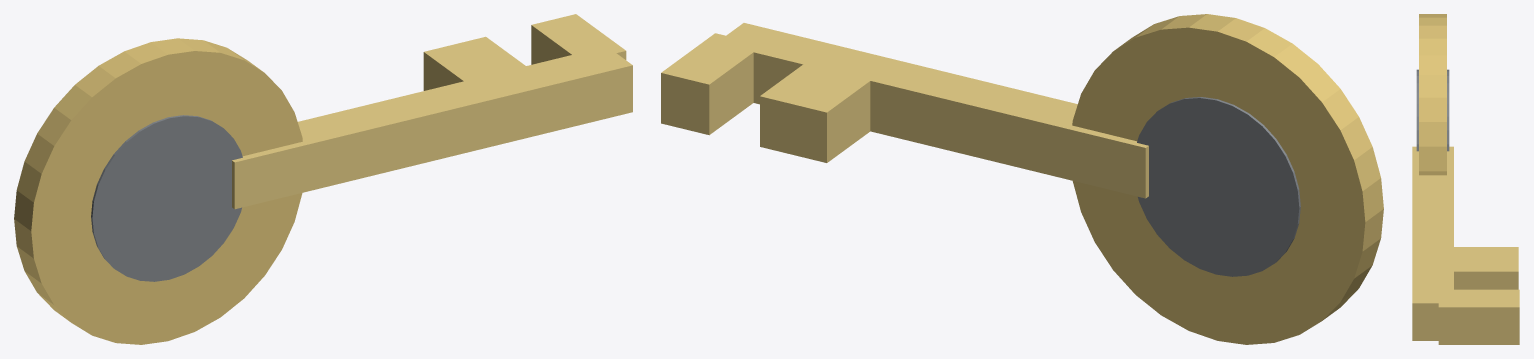
File: brass_key.glb
3 renders of one model, left to right at view 1: azimuth 30°, elevation 25°; view 2: azimuth 150°, elevation 25°; view 3: azimuth 270°, elevation 25°, orthographic. The views are drawn at different scales.
Visible parts, largest first — view 1: brass_key_0, brass_key_2, brass_key_1, brass_key_4, brass_key_3; view 2: brass_key_0, brass_key_2, brass_key_1, brass_key_4, brass_key_3; view 3: brass_key_2, brass_key_0, brass_key_3, brass_key_4, brass_key_1.
Boxes of the visible parts, box(x1,y1,x2,y2) form: brass_key_0: box(14, 38, 302, 344); brass_key_2: box(232, 46, 632, 209); brass_key_1: box(91, 115, 242, 281); brass_key_4: box(423, 36, 525, 90); brass_key_3: box(531, 14, 626, 64); brass_key_0: box(1072, 14, 1383, 344); brass_key_2: box(716, 23, 1148, 198); brass_key_1: box(1137, 97, 1300, 276); brass_key_4: box(760, 64, 870, 162); brass_key_3: box(661, 33, 762, 135); brass_key_2: box(1412, 146, 1453, 340); brass_key_0: box(1419, 14, 1446, 175); brass_key_3: box(1438, 289, 1519, 344); brass_key_4: box(1454, 247, 1518, 289); brass_key_1: box(1416, 69, 1449, 151).
Size of the model in its own units: 0.244 by 0.11 by 0.0465.
